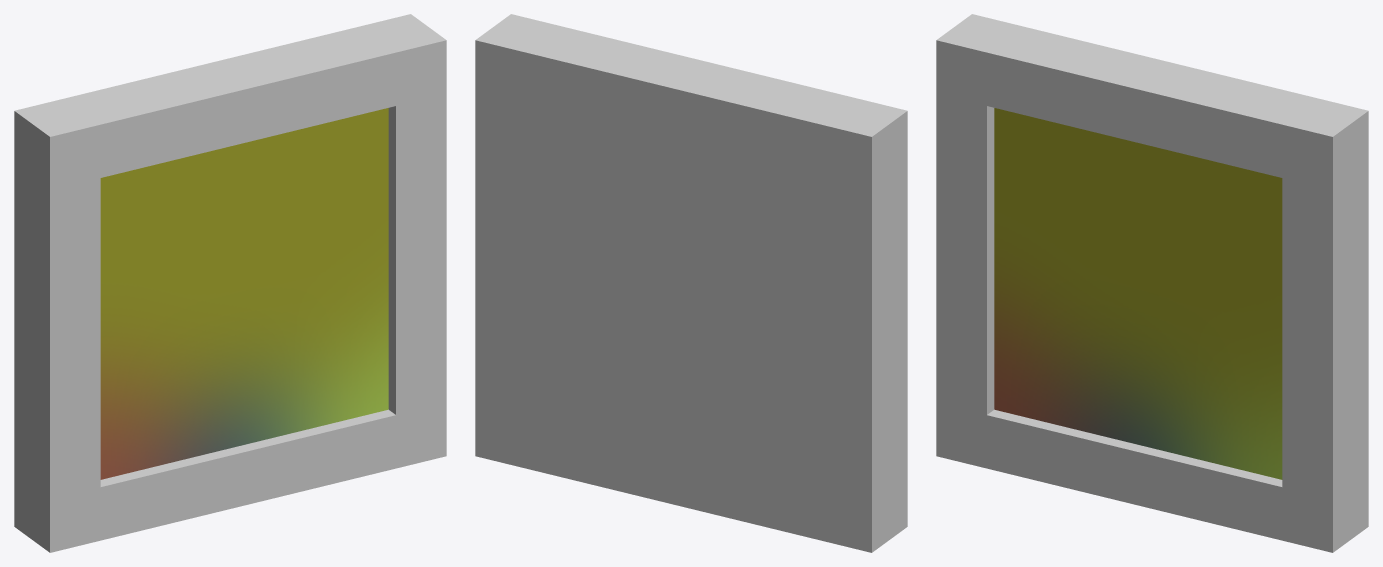
The model's file is 09_painting_small.glb.
3 renders of one model, left to right at view 1: azimuth 30°, elevation 25°; view 2: azimuth 150°, elevation 25°; view 3: azimuth 330°, elevation 25°, orthographic.
Parts seen in each view (by area): view 1: Painting_Small; view 2: Painting_Small; view 3: Painting_Small.
Boxes of the visible parts, <box> form: Painting_Small: <box>14,14,446,552</box>; Painting_Small: <box>475,14,907,552</box>; Painting_Small: <box>936,14,1368,552</box>.
Size of the model in its own units: 0.2517 by 0.2523 by 0.0394.
Materials: 2 (1 with a texture image).
